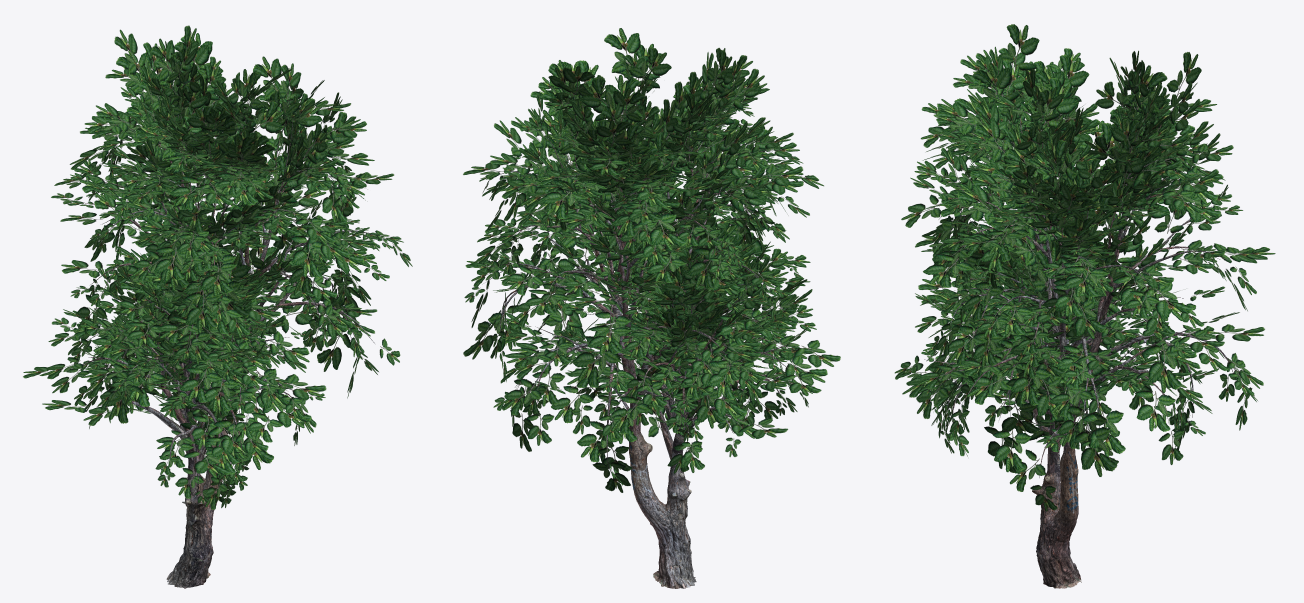
Rendered from tree1 (2).glb.
3 renders of one model, left to right at view 1: azimuth 30°, elevation 25°; view 2: azimuth 150°, elevation 25°; view 3: azimuth 270°, elevation 25°, orthographic. The views are drawn at different scales.
Parts seen in each view (by area): view 1: leaves1.001_LiveOakLeavesHIGH_0, Graf1HIGH_Graf1BranchesHIGH_0, Graf1HIGH_Graf1TrunkHIGH_0; view 2: leaves1.001_LiveOakLeavesHIGH_0, Graf1HIGH_Graf1BranchesHIGH_0, Graf1HIGH_Graf1TrunkHIGH_0; view 3: leaves1.001_LiveOakLeavesHIGH_0, Graf1HIGH_Graf1BranchesHIGH_0, Graf1HIGH_Graf1TrunkHIGH_0.
Boxes of the visible parts, bbox=[...] form: leaves1.001_LiveOakLeavesHIGH_0: bbox=[23, 25, 412, 509]; Graf1HIGH_Graf1BranchesHIGH_0: bbox=[71, 78, 386, 486]; Graf1HIGH_Graf1TrunkHIGH_0: bbox=[166, 428, 227, 588]; leaves1.001_LiveOakLeavesHIGH_0: bbox=[463, 28, 840, 492]; Graf1HIGH_Graf1BranchesHIGH_0: bbox=[482, 78, 792, 476]; Graf1HIGH_Graf1TrunkHIGH_0: bbox=[629, 426, 696, 588]; leaves1.001_LiveOakLeavesHIGH_0: bbox=[894, 24, 1275, 511]; Graf1HIGH_Graf1BranchesHIGH_0: bbox=[924, 89, 1241, 477]; Graf1HIGH_Graf1TrunkHIGH_0: bbox=[1032, 447, 1081, 588].
Bounding box in the file's own units: 7.03 × 9.67 × 6.45.
3 materials, 3 textured.
